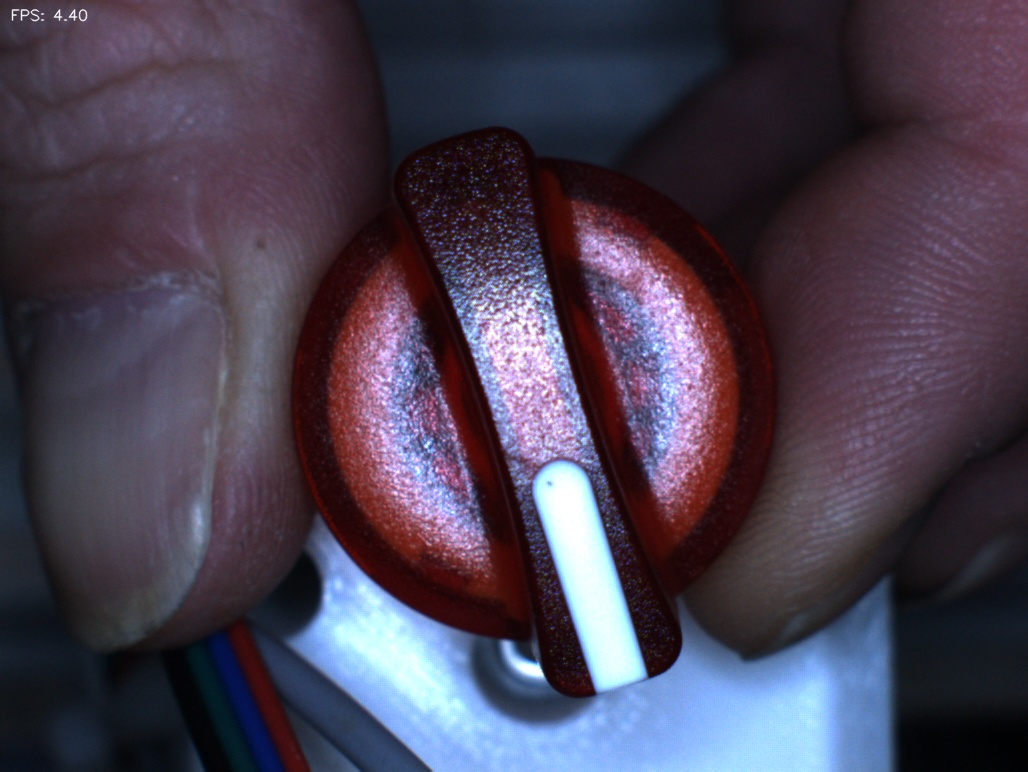PointNoir: (522, 454, 575, 507)
